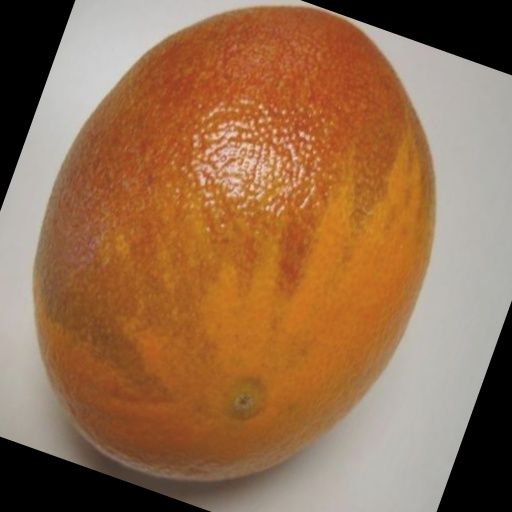fruit: (277, 182, 497, 512)
